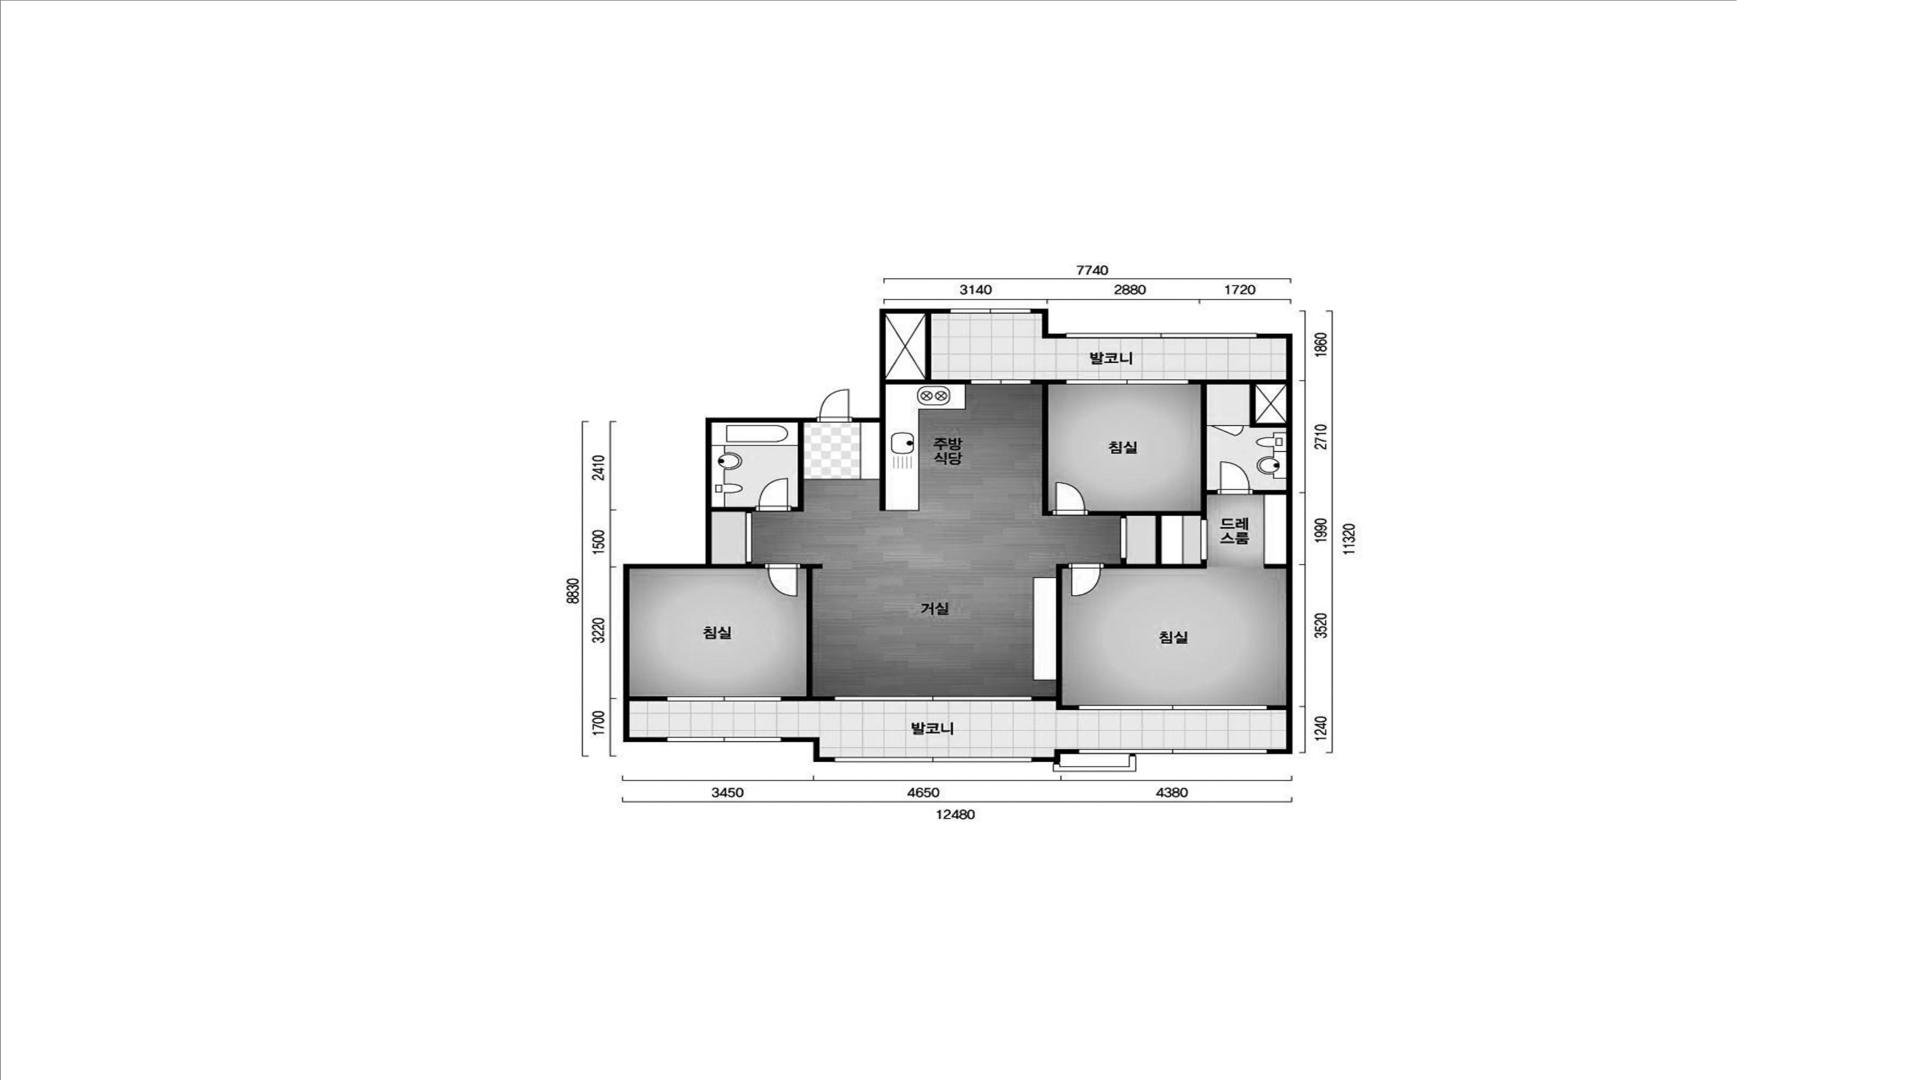door: (765, 563, 800, 597), (1052, 481, 1088, 516), (1068, 563, 1104, 597), (756, 477, 791, 512), (816, 389, 853, 422), (1217, 462, 1253, 495), (1212, 425, 1244, 436), (746, 513, 752, 562), (1201, 520, 1207, 559)
wall: (622, 417, 818, 742), (1088, 380, 1287, 568), (1257, 334, 1292, 754), (853, 309, 951, 422), (781, 563, 835, 702), (1033, 563, 1079, 711), (885, 314, 971, 385), (1031, 380, 1067, 516), (781, 737, 835, 762), (791, 422, 804, 512), (1031, 309, 1067, 338), (1033, 749, 1079, 762), (880, 422, 885, 512), (712, 562, 765, 568), (712, 508, 756, 513), (629, 696, 667, 702), (1253, 489, 1287, 495), (1265, 563, 1287, 568), (1267, 705, 1287, 709)
window: (835, 757, 1033, 762), (835, 696, 1033, 702), (1079, 749, 1267, 754), (1067, 334, 1257, 338), (1079, 705, 1267, 709), (667, 696, 781, 702), (667, 737, 781, 742), (1067, 380, 1188, 384), (951, 309, 1031, 314), (971, 380, 1031, 385)
